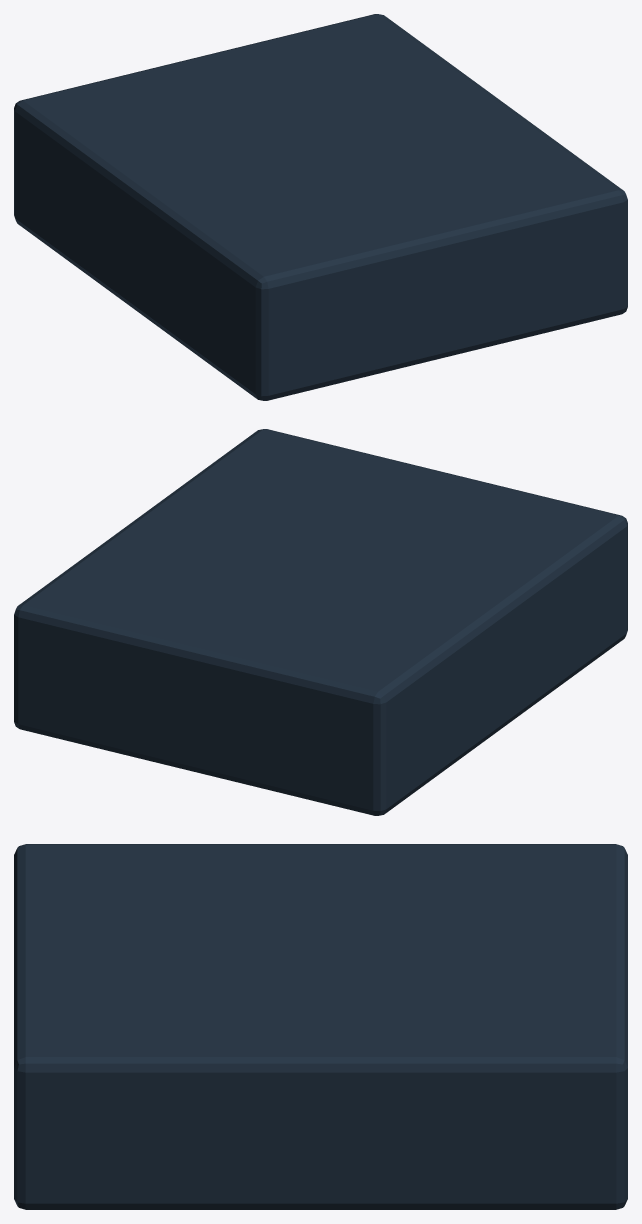
Rendered from rebar-gantry-trolley-v3-high.glb.
3 renders of one model, top to bottom at view 1: azimuth 30°, elevation 25°; view 2: azimuth 150°, elevation 25°; view 3: azimuth 270°, elevation 25°, orthographic. The views are drawn at different scales.
Parts seen in each view (by area): view 1: CR-02-trolley.001; view 2: CR-02-trolley.001; view 3: CR-02-trolley.001.
Boxes of the visible parts, bbox=[...] form: CR-02-trolley.001: bbox=[14, 14, 627, 400]; CR-02-trolley.001: bbox=[14, 429, 627, 815]; CR-02-trolley.001: bbox=[14, 844, 627, 1209].
Bounding box in the file's own units: 3.6 × 1.15 × 4.2.
